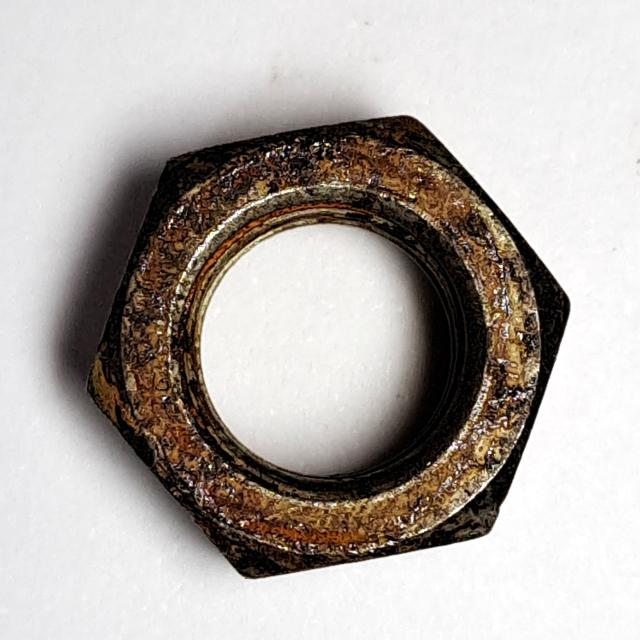Rust: (77, 102, 577, 593)
